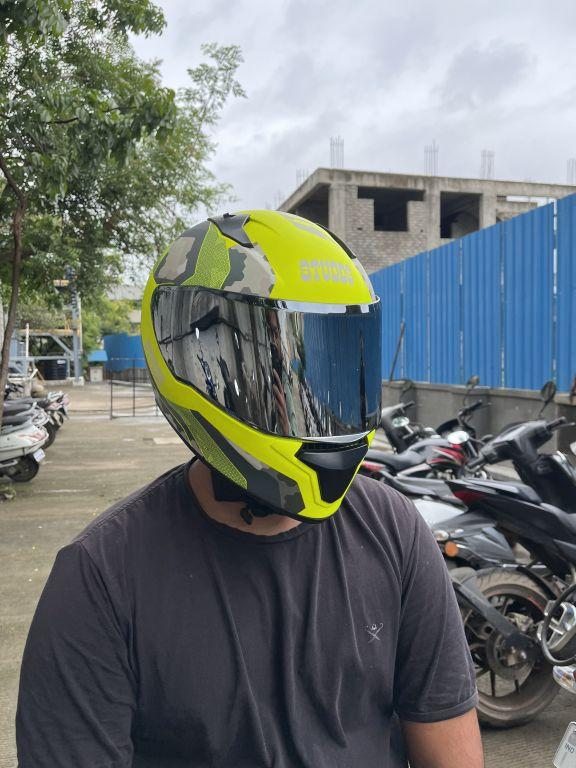helmet: (134, 199, 390, 531)
